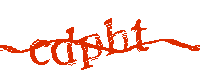c: (28, 37, 52, 68)
d: (52, 25, 76, 69)
h: (103, 18, 129, 55)
p: (78, 34, 103, 70)
t: (130, 17, 150, 53)
